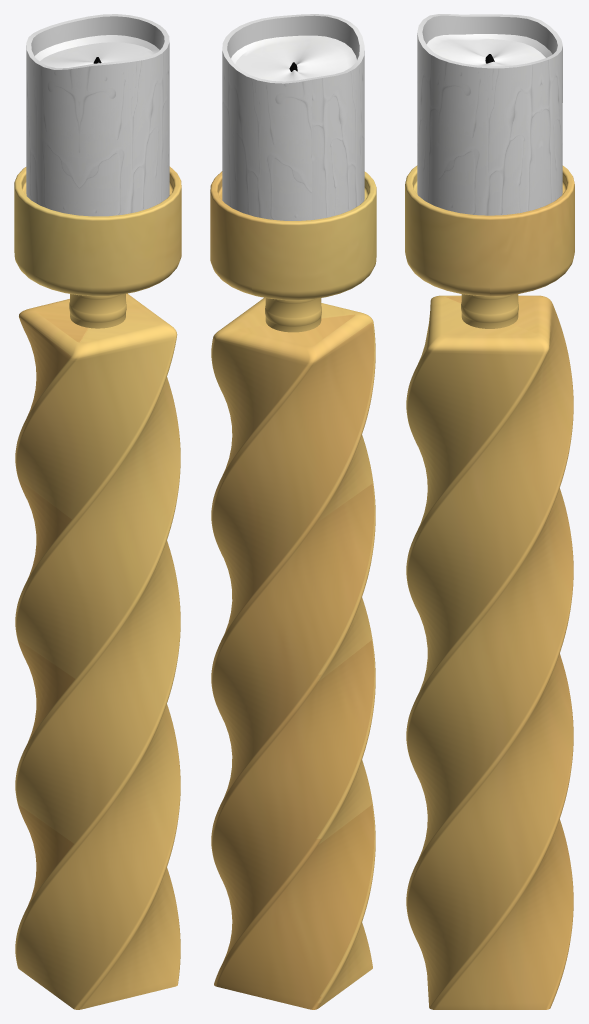
Rendered from Candle.fbx.
3 views of the same model, side by side, from view 1: azimuth 30°, elevation 25°; view 2: azimuth 150°, elevation 25°; view 3: azimuth 270°, elevation 25° (orthographic).
Parts seen in each view (by area): view 1: Candle Stick, Candle; view 2: Candle Stick, Candle; view 3: Candle Stick, Candle.
Part boxes in pixels (x1,y1,x2,y2): Candle Stick: (14,166,181,1009); Candle: (26,14,169,216); Candle Stick: (210,171,376,1009); Candle: (222,14,364,220); Candle Stick: (405,165,574,1009); Candle: (417,14,562,215).
Bounding box in the file's own units: 13.95 × 86.37 × 13.95.
